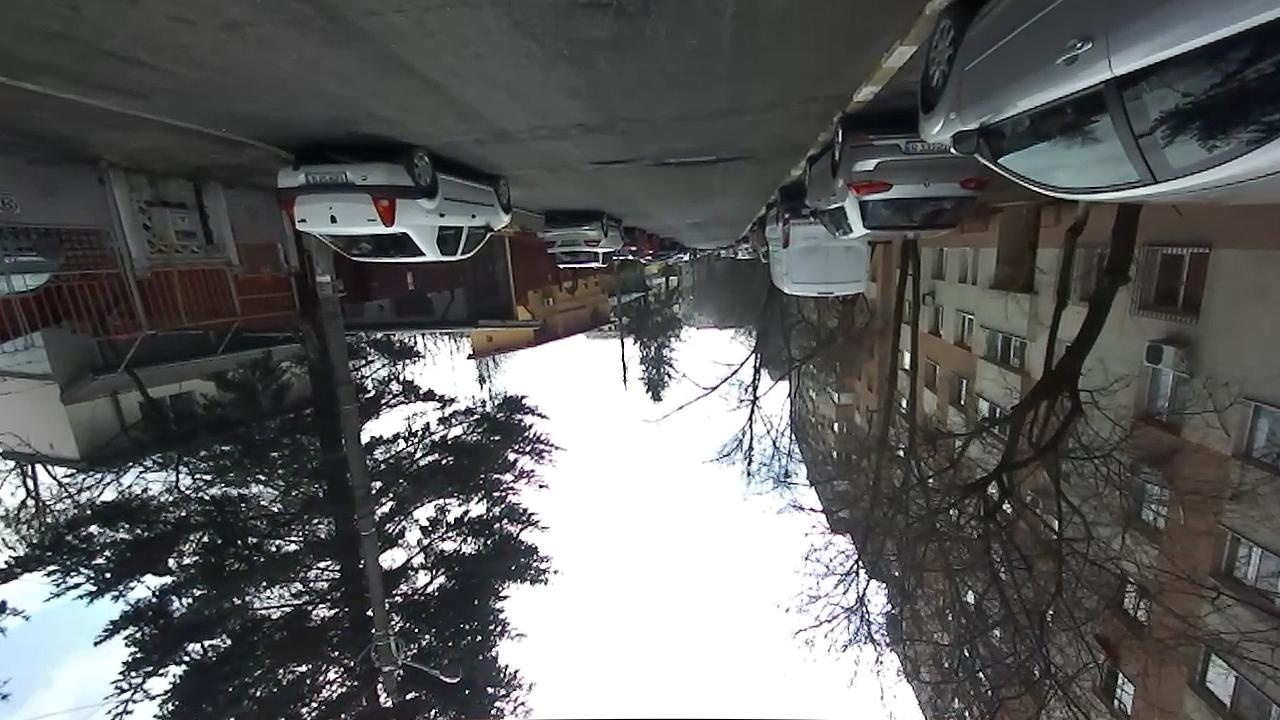pothole: (661, 153, 747, 167), (590, 158, 638, 166)
